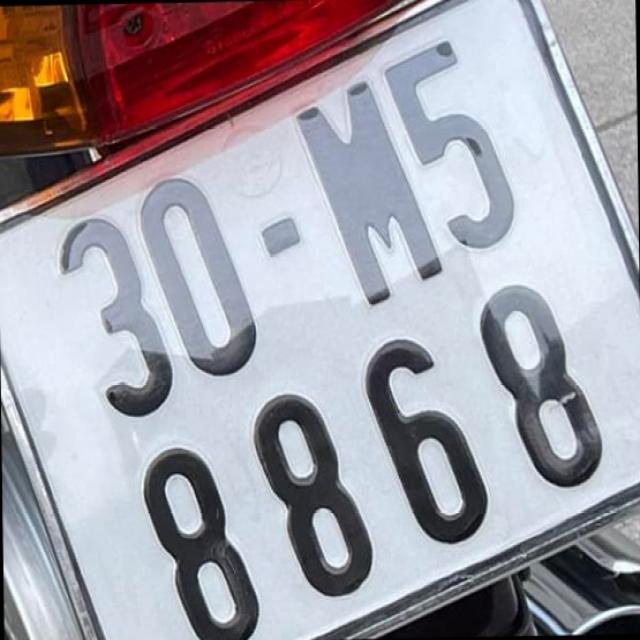0: (142, 163, 272, 377)
3: (54, 215, 171, 411)
6: (364, 320, 494, 542)
8: (483, 276, 611, 496), (258, 384, 376, 607), (141, 440, 263, 638)
M: (291, 81, 447, 306)
U: (390, 36, 527, 245)
